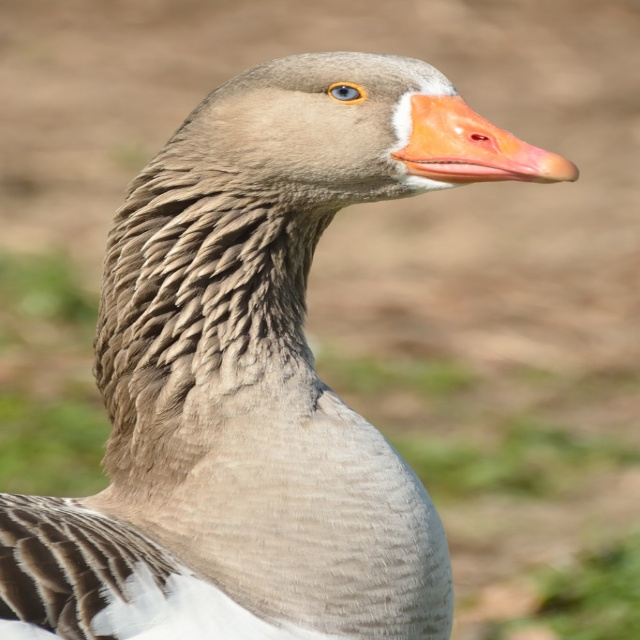Goose: (0, 45, 579, 640)
